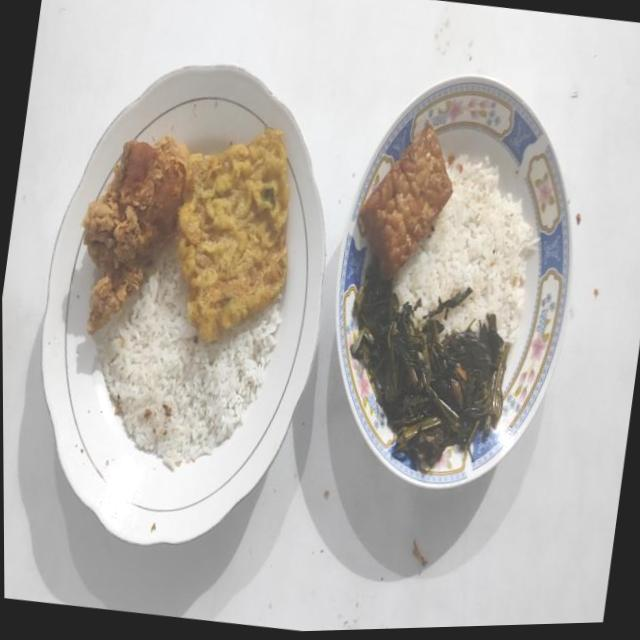nasi_putih: (97, 249, 282, 467), (393, 155, 534, 343)
tempe_goreng: (358, 125, 453, 279)
tumis_kangkung: (350, 259, 510, 473)
